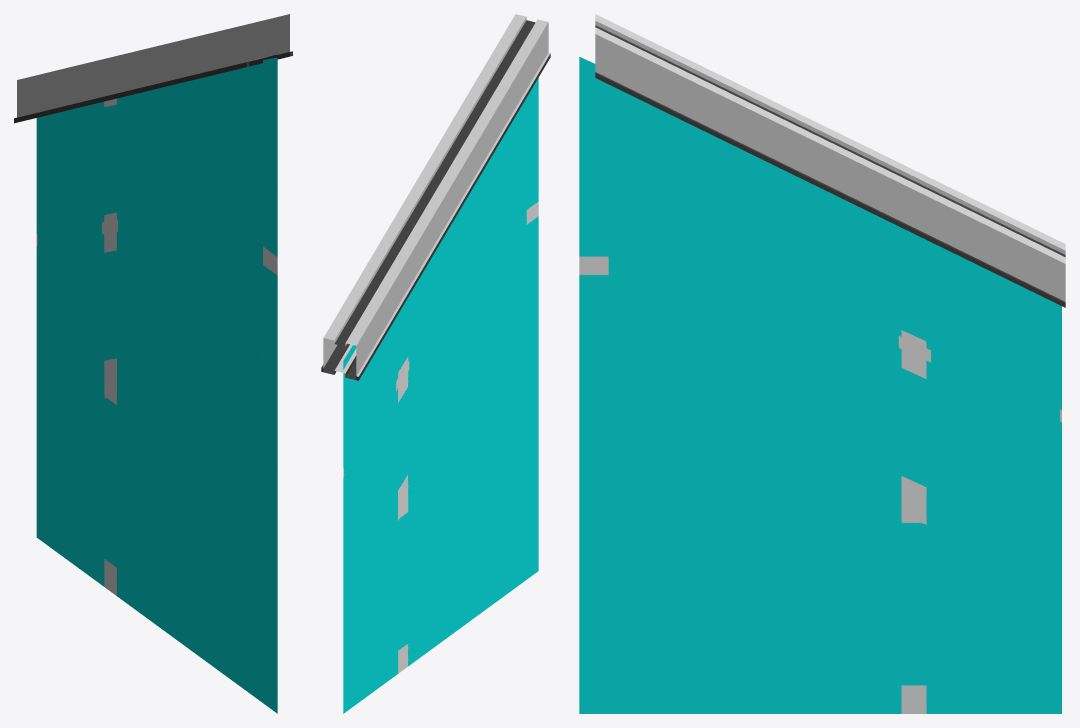
Rendered from ModDiv_Panel_TallGrad1.fbx.
The picture shows the model from 3 angles, left to right: view 1: azimuth 30°, elevation 25°; view 2: azimuth 150°, elevation 25°; view 3: azimuth 270°, elevation 25°; orthographic projection. The views are drawn at different scales.
Parts seen in each view (by area): view 1: High_gradient1; view 2: High_gradient1; view 3: High_gradient1.
Part boxes in pixels (x1=…): High_gradient1: x1=14, y1=14, x2=292, y2=713; High_gradient1: x1=321, y1=14, x2=550, y2=713; High_gradient1: x1=579, y1=14, x2=1065, y2=713.
Size of the model in its own units: 35.91 by 486 by 310.
Materials: 3 (1 with a texture image).
